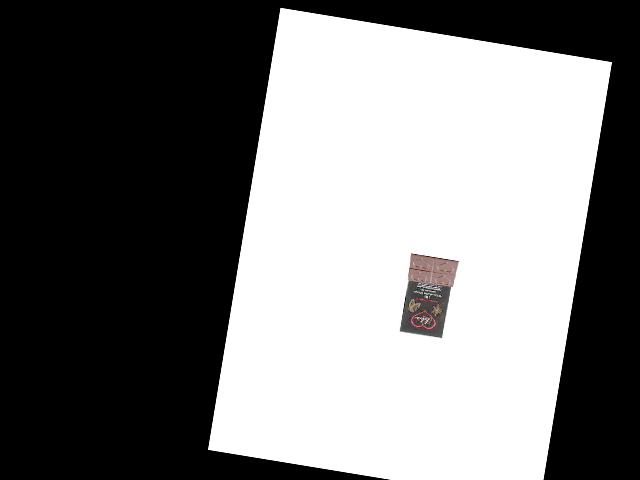chocolate: (396, 249, 462, 340)
